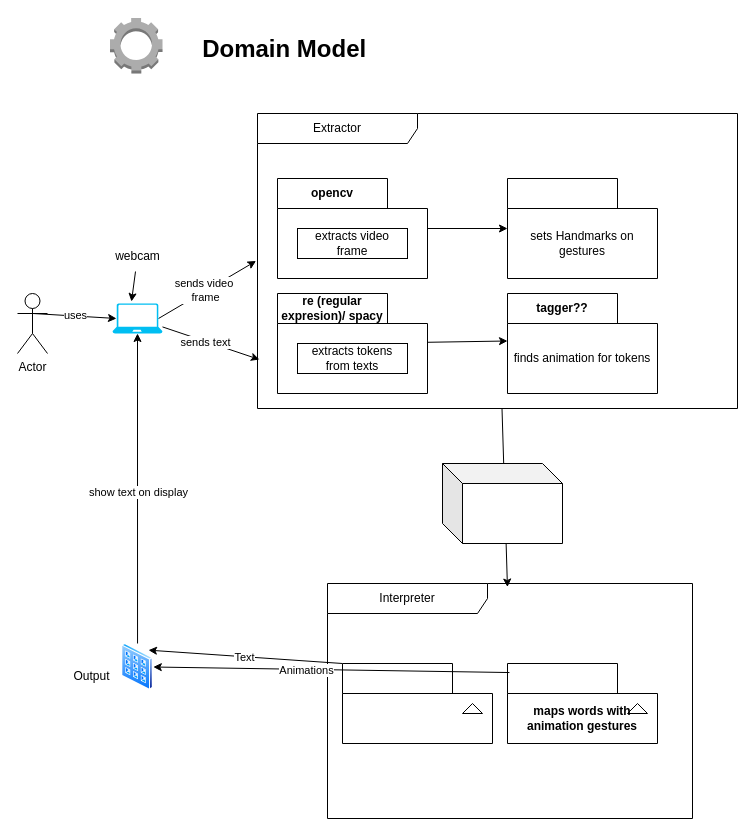
The diagram is 755 pixels wide and 836 high, and some of its shapes have lost their labels. Each missing label, with the centre of its shape:
"join angles and interprets handmarks" belongs at (417,703).
"mediapipe" belongs at (582,228).
"sent as package" belongs at (502,503).
